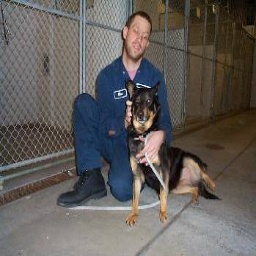dog: (119, 78, 219, 227)
